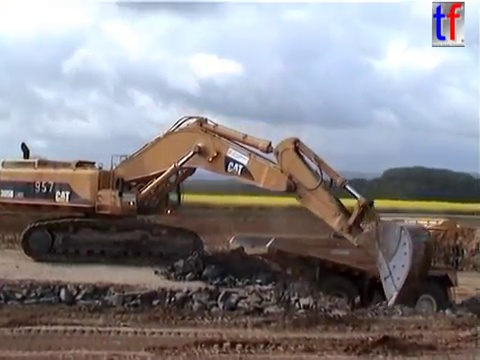excavator: (1, 112, 437, 313)
truck: (225, 212, 470, 333)
